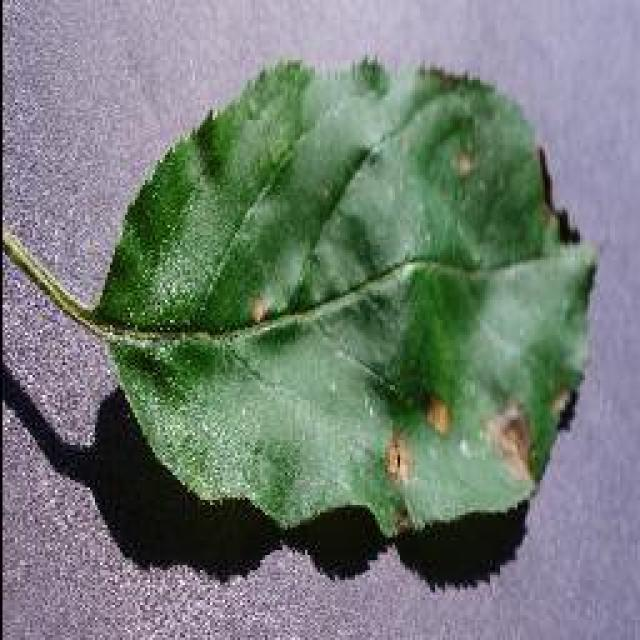apple healthy: (0, 53, 600, 565)
